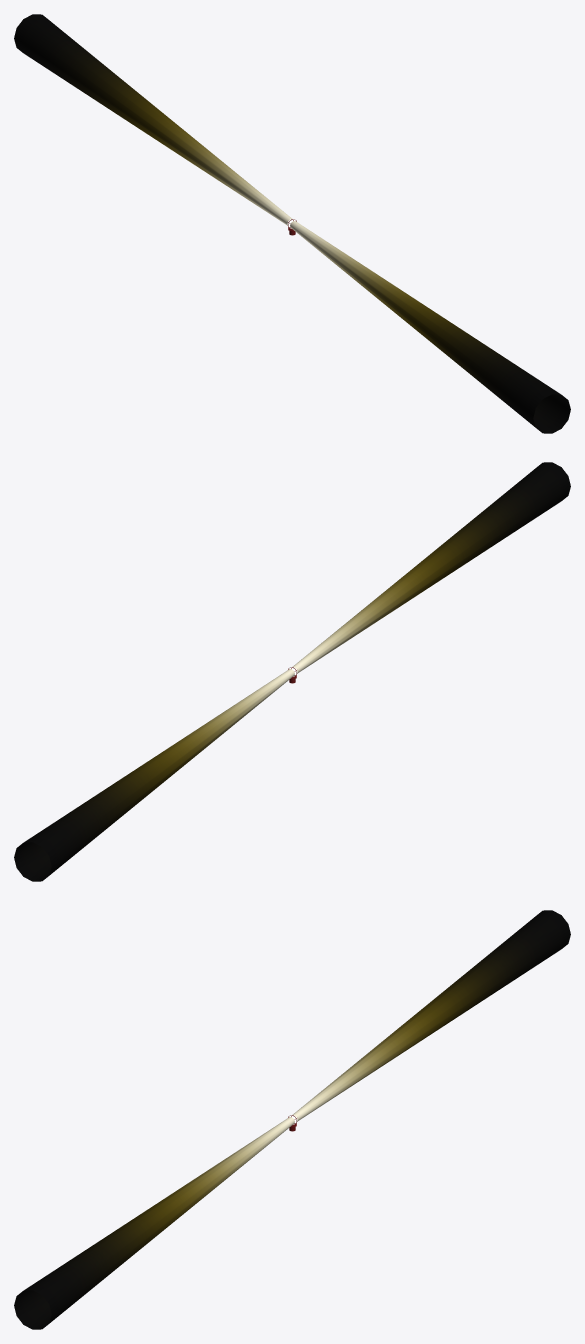
Rendered from light-lh.glb.
3 renders of one model, top to bottom at view 1: azimuth 30°, elevation 25°; view 2: azimuth 150°, elevation 25°; view 3: azimuth 330°, elevation 25°, orthographic.
Parts seen in each view (by area): view 1: pasted__pCylinder14; view 2: pasted__pCylinder14; view 3: pasted__pCylinder14.
Part boxes in pixels (<box>): pasted__pCylinder14: <box>14,14,570,433</box>; pasted__pCylinder14: <box>14,462,570,881</box>; pasted__pCylinder14: <box>14,910,570,1329</box>.
Size of the model in its own units: 2.08 by 2.08 by 49.5.
Materials: 2 (2 with a texture image).
